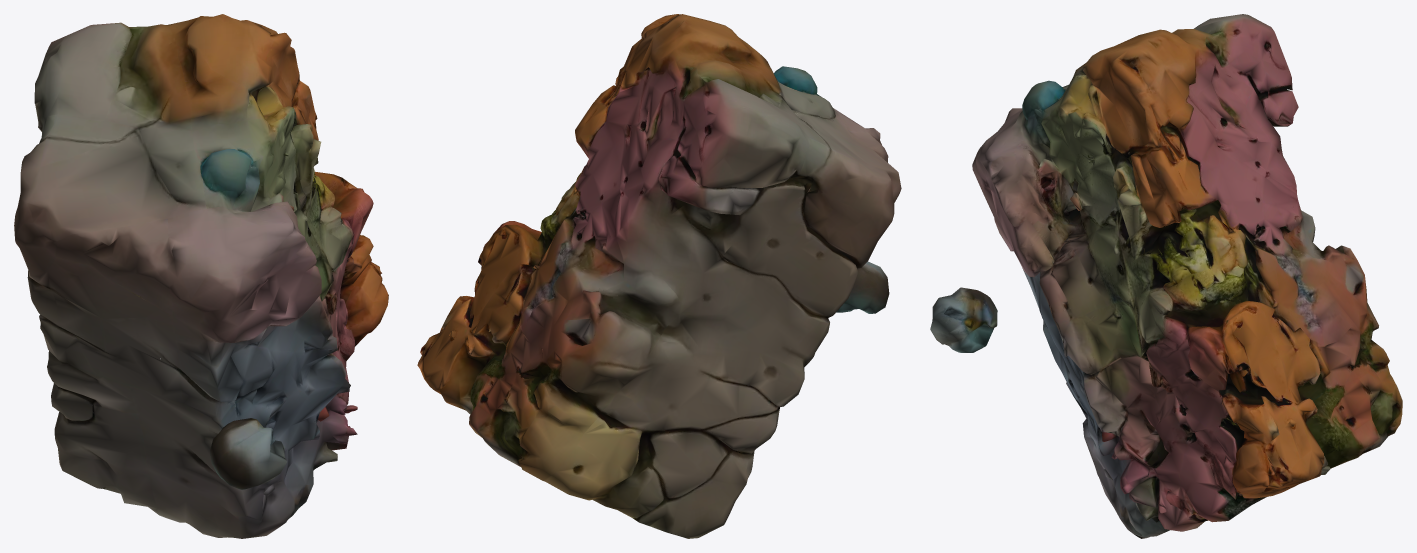
The model's file is rock_fragment.glb.
3 views of the same model, side by side, from view 1: azimuth 30°, elevation 25°; view 2: azimuth 150°, elevation 25°; view 3: azimuth 270°, elevation 25° (orthographic). The views are drawn at different scales.
Parts seen in each view (by area): view 1: tripo_node_1088caa8; view 2: tripo_node_1088caa8; view 3: tripo_node_1088caa8.
Boxes of the visible parts, left/top/right/bottom form: tripo_node_1088caa8: left=14, top=14, right=388, bottom=538; tripo_node_1088caa8: left=417, top=14, right=901, bottom=538; tripo_node_1088caa8: left=930, top=14, right=1402, bottom=538.
Bounding box in the file's own units: 0.8608 × 0.9791 × 0.8623.
1 material, 1 textured.
